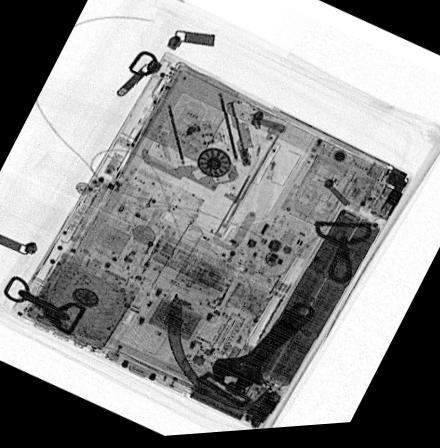Wrench: (209, 305, 316, 394)
